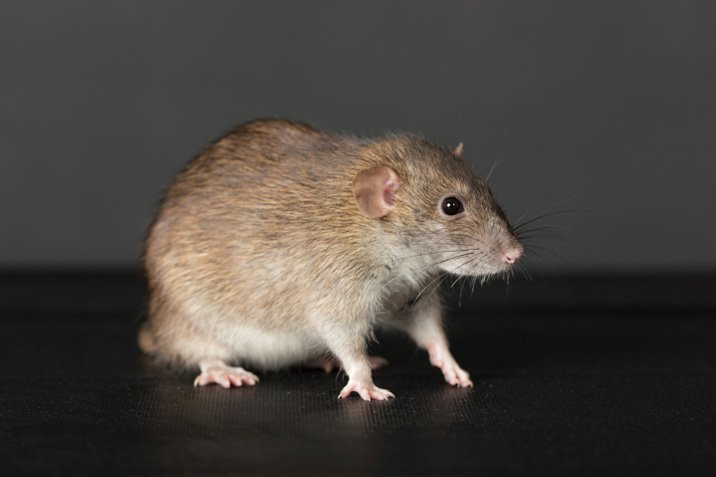rat: (102, 105, 559, 419)
